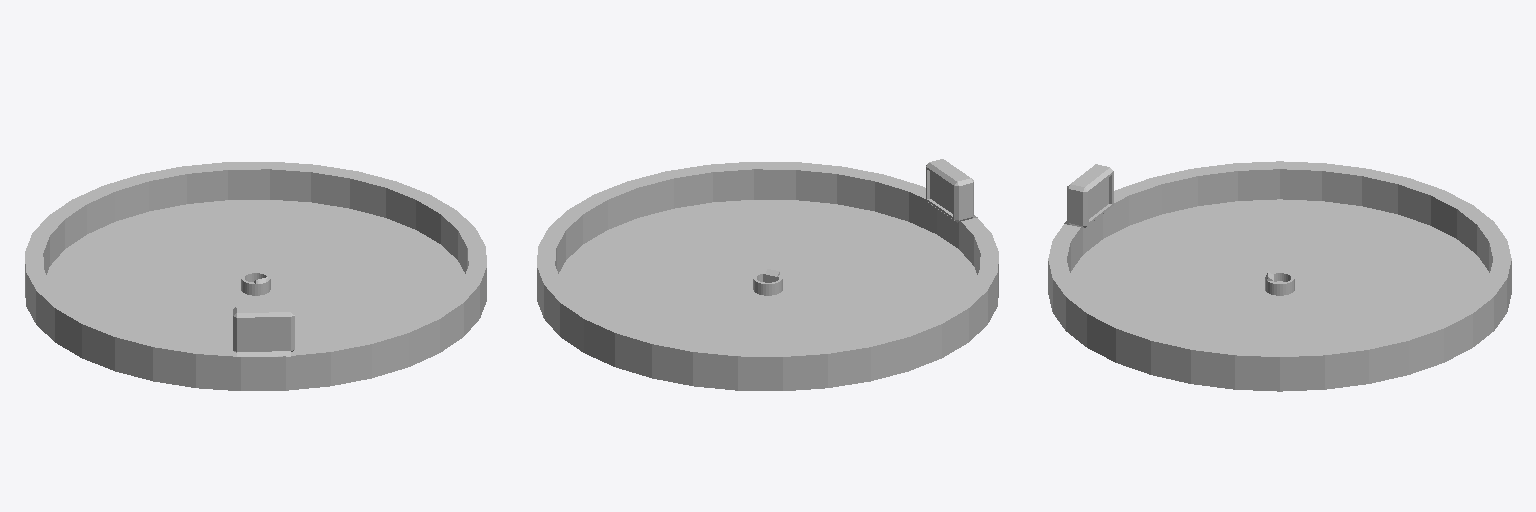
File: Arena and DJ board.obj
The picture shows the model from 3 angles: view 1: azimuth 30°, elevation 25°; view 2: azimuth 150°, elevation 25°; view 3: azimuth 270°, elevation 25°; orthographic projection.
Visible parts, largest first — view 1: Cylinder; view 2: Cylinder; view 3: Cylinder.
Part boxes in pixels (bbox=[...]): Cylinder: bbox=[25, 162, 486, 390]; Cylinder: bbox=[537, 159, 998, 390]; Cylinder: bbox=[1048, 161, 1511, 391].
Size of the model in its own units: 2 by 0.3583 by 2.